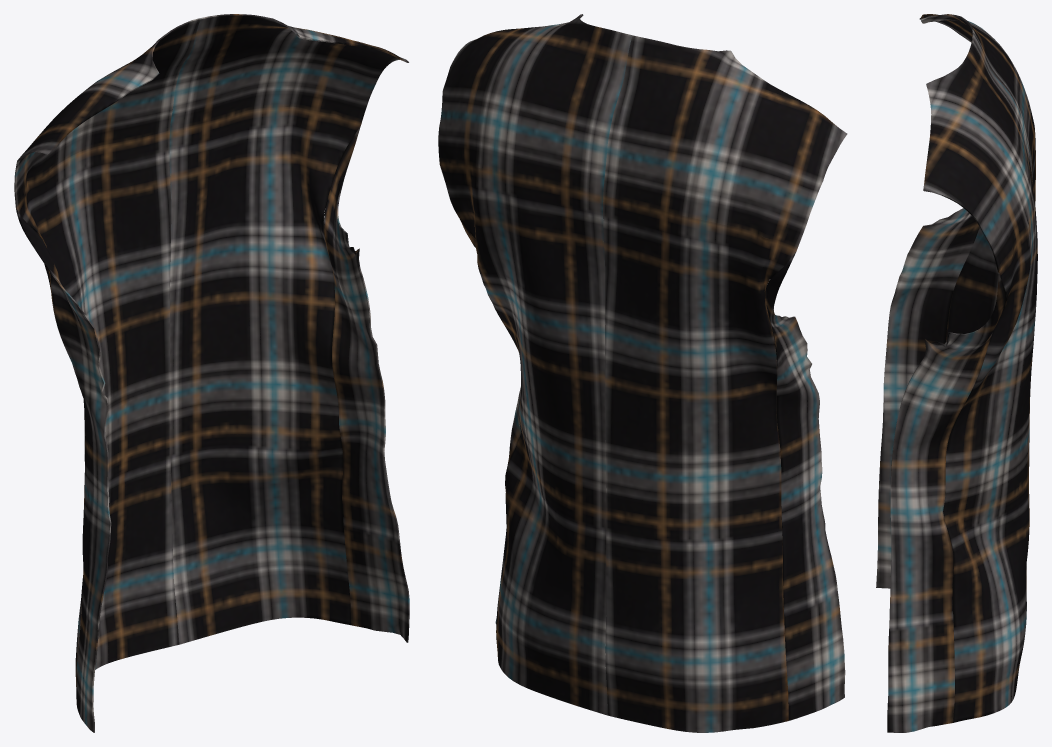
Rendered from nvj.glb.
3 views of the same model, side by side, from view 1: azimuth 30°, elevation 25°; view 2: azimuth 150°, elevation 25°; view 3: azimuth 270°, elevation 25° (orthographic). The views are drawn at different scales.
Parts seen in each view (by area): view 1: vent (×4); view 2: vent (×3); view 3: vent (×4).
Part boxes in pixels (box(x1,y1,x2,y2)): vent (×4): box(14, 14, 409, 732); vent (×3): box(438, 14, 847, 732); vent (×4): box(876, 14, 1037, 732).
Size of the model in its own units: 441 by 734 by 171.
4 materials, 4 textured.
